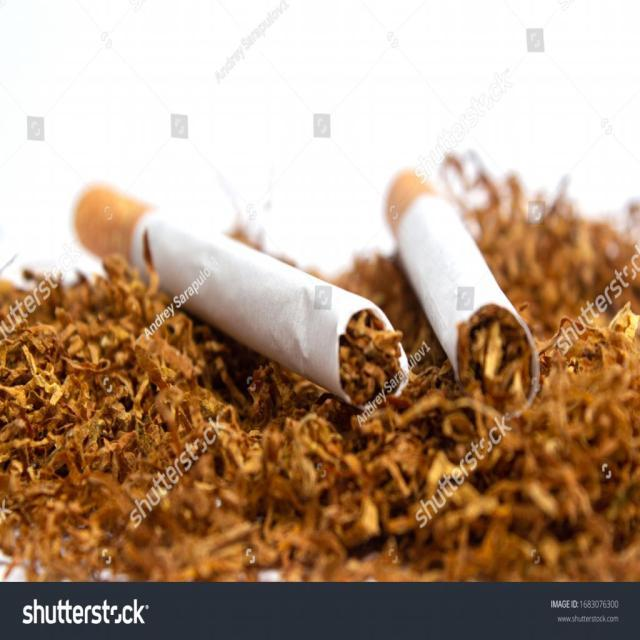smoking: (54, 154, 434, 424), (365, 151, 561, 430)
